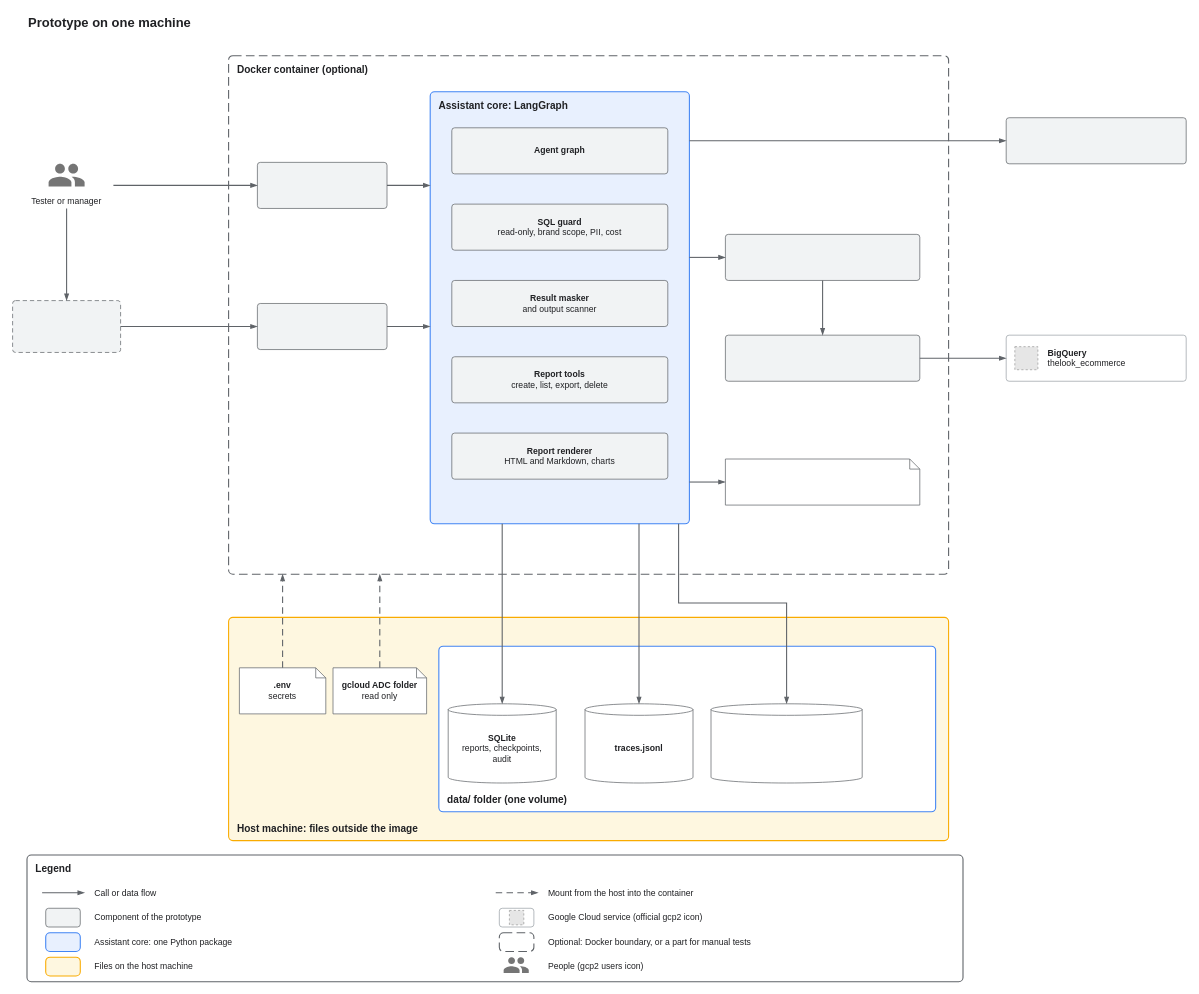
Image size: 1199x994. Some labels were removed from this diagram. Grey dashed boxes stand in for pictures. The centre of each missing label's shape, as x and y in pixels:
BigQuery wrapper dry run, byte cap, timeout, labels: (822,257)
BigQueryRunner bq_client.py, unchanged: (822,357)
CLI Typer + Rich: (322,185)
config/users.yaml users, roles, brands: (822,481)
data/reports/ HTML and Markdown files: (786,743)
Gemini API AI Studio, free tier: (1095,140)
Local FastAPI app: (322,326)
Local web UI HTML + JavaScript nice to have, for manual tests: (66,326)
